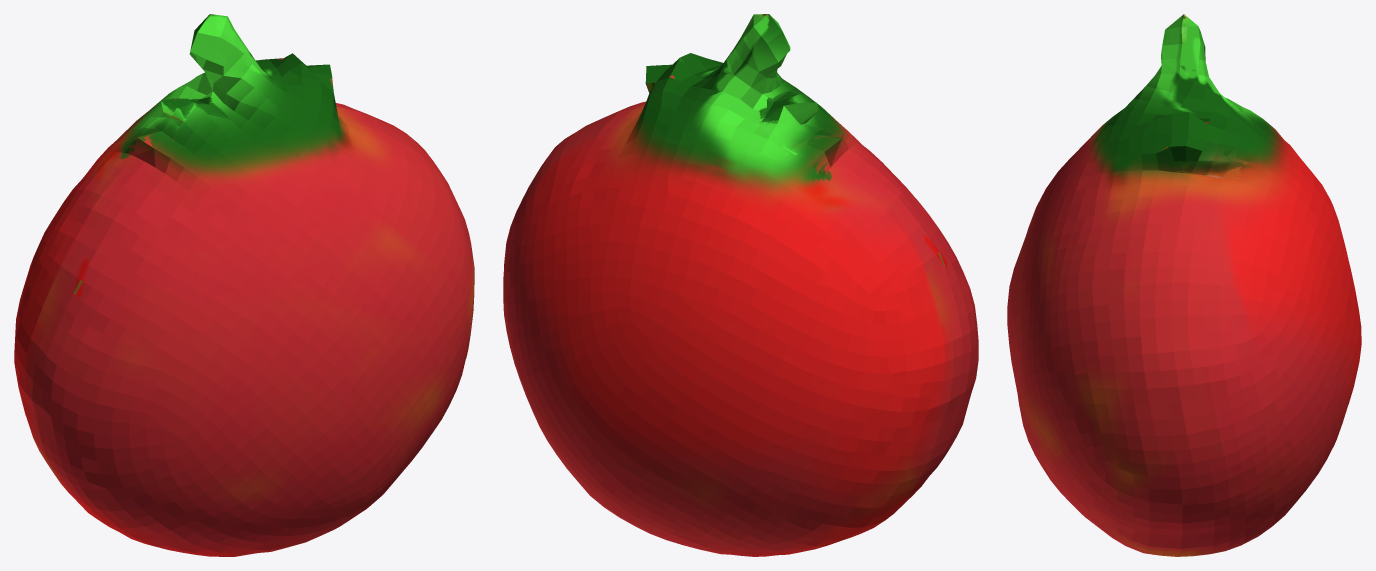
File: tomato.fbx
3 renders of one model, left to right at view 1: azimuth 30°, elevation 25°; view 2: azimuth 150°, elevation 25°; view 3: azimuth 270°, elevation 25°, orthographic. The views are drawn at different scales.
Parts seen in each view (by area): view 1: tomato; view 2: tomato; view 3: tomato.
Boxes of the visible parts, x1,y1,x2,y2 form: tomato: (14,14,474,556); tomato: (503,14,978,556); tomato: (1007,14,1361,556).
Bounding box in the file's own units: 274 × 326 × 208.
